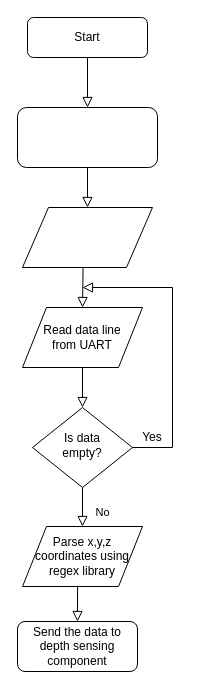
The diagram is 200 pixels wide and 689 high, and some of its shapes have lost their labels. Each missing label, with the centre of its shape:
Create a py serial instance and configure the port baud rate to 115200bps: the point at 87,137
Send the '\r+lep' command in UART shell mode: the point at 87,237
